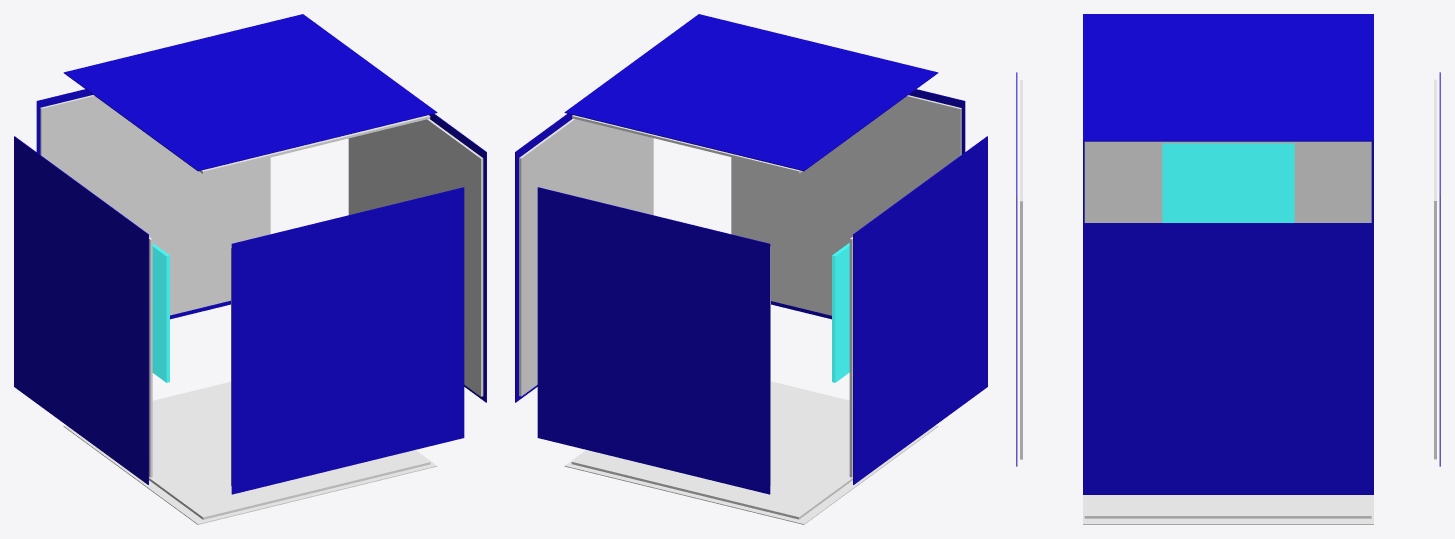
File: cubo_int.glb
The picture shows the model from 3 angles, left to right: view 1: azimuth 30°, elevation 25°; view 2: azimuth 150°, elevation 25°; view 3: azimuth 270°, elevation 25°; orthographic projection. The views are drawn at different scales.
Visible parts, largest first — view 1: Cubo.003, Cubo, Cubo.005, Cubo.004, Cubo.002, Cubo.001, Cubo.006; view 2: Cubo.004, Cubo, Cubo.005, Cubo.003, Cubo.002, Cubo.001, Cubo.006; view 3: Cubo.001, Cubo.005, Cubo, Cubo.006, Cubo.002, Cubo.004, Cubo.003.
Boxes of the visible parts, x1=… form: Cubo.003: x1=231, y1=187, x2=464, y2=494; Cubo: x1=14, y1=136, x2=152, y2=484; Cubo.005: x1=63, y1=14, x2=437, y2=173; Cubo.004: x1=36, y1=89, x2=270, y2=319; Cubo.002: x1=63, y1=381, x2=437, y2=524; Cubo.001: x1=348, y1=113, x2=486, y2=402; Cubo.006: x1=152, y1=243, x2=169, y2=382; Cubo.004: x1=537, y1=187, x2=770, y2=494; Cubo: x1=849, y1=136, x2=987, y2=484; Cubo.005: x1=564, y1=14, x2=938, y2=173; Cubo.003: x1=731, y1=89, x2=965, y2=319; Cubo.002: x1=564, y1=381, x2=938, y2=524; Cubo.001: x1=515, y1=113, x2=653, y2=402; Cubo.006: x1=832, y1=243, x2=849, y2=382; Cubo.001: x1=1083, y1=223, x2=1373, y2=494; Cubo.005: x1=1083, y1=14, x2=1373, y2=143; Cubo: x1=1083, y1=141, x2=1373, y2=222; Cubo.006: x1=1162, y1=143, x2=1294, y2=222; Cubo.002: x1=1083, y1=495, x2=1373, y2=524; Cubo.004: x1=1434, y1=72, x2=1440, y2=466; Cubo.003: x1=1016, y1=72, x2=1022, y2=466.
Bounding box in the file's own units: 3.01 × 3.01 × 3.01.
